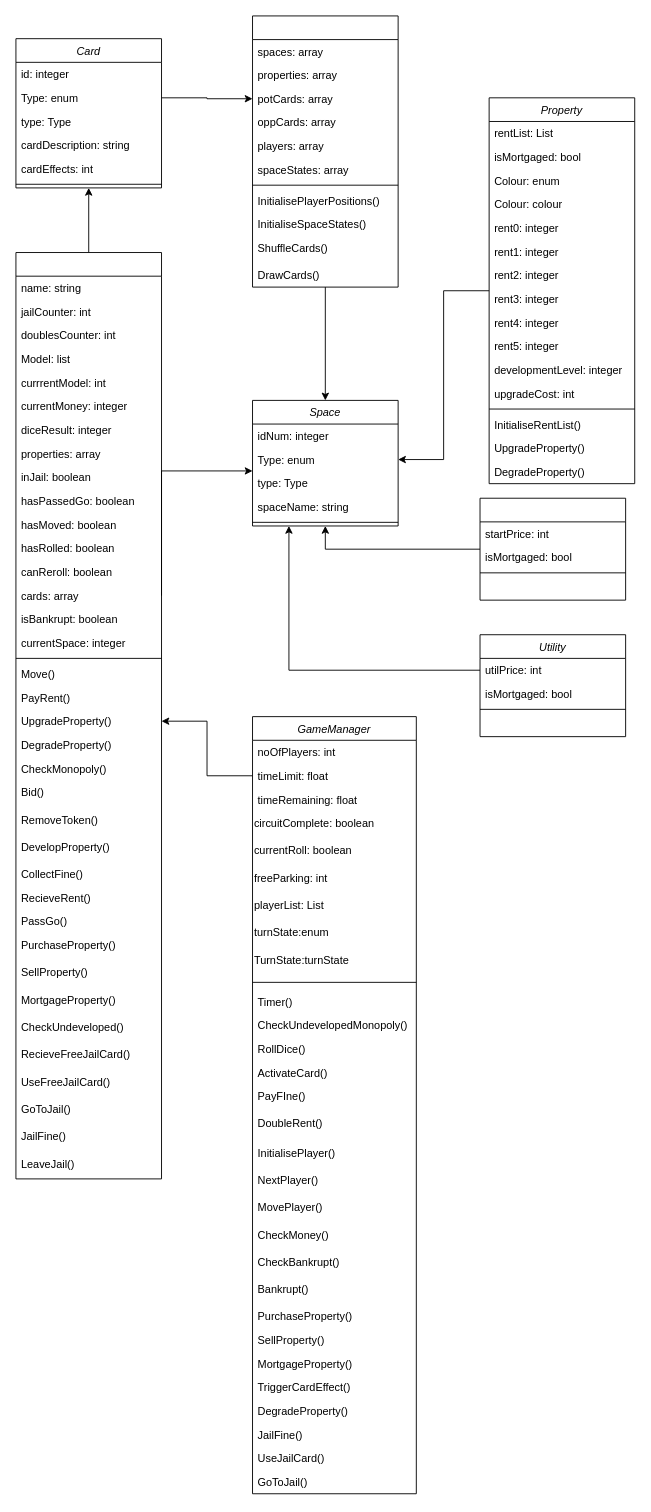
The diagram is 651 pixels wide and 1512 high, and some of its shapes have lost their labels. The box of each missing label's shape, as (x1, y1, x2, y2) in pixels:
Board: (252, 15, 398, 287)
Player: (15, 252, 162, 1179)
Station: (479, 497, 626, 600)
